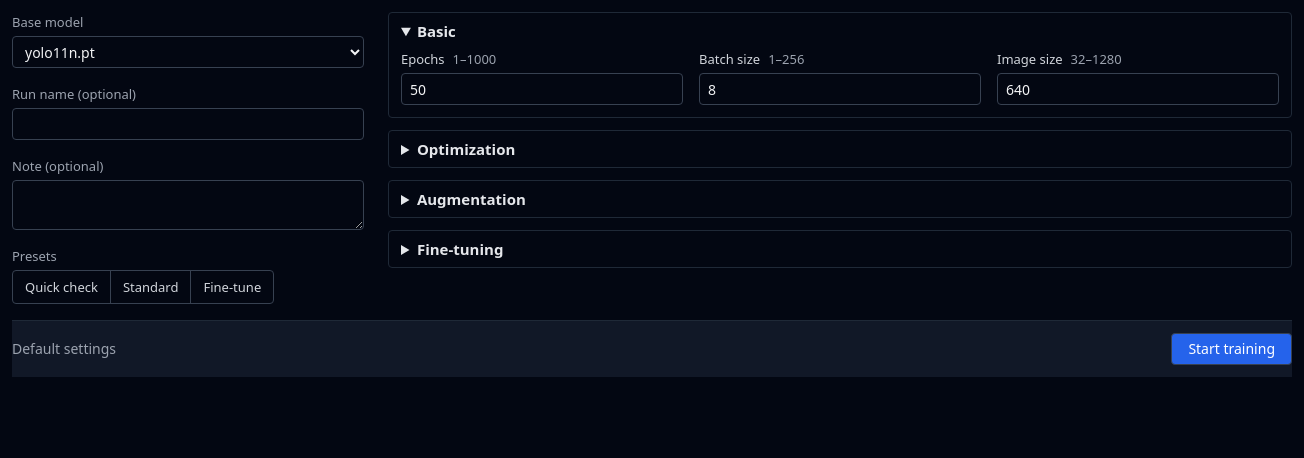
Test: TrainConfigForm › explains head re-initialisation only when a version is chosen
This screenshot has width=1304, height=458.
Select "polyps-v1-run7 — mAP50 0.650 · 2026-08-20" in the dropdown labelled "Base model" at (188, 52), box [12,36,364,68]
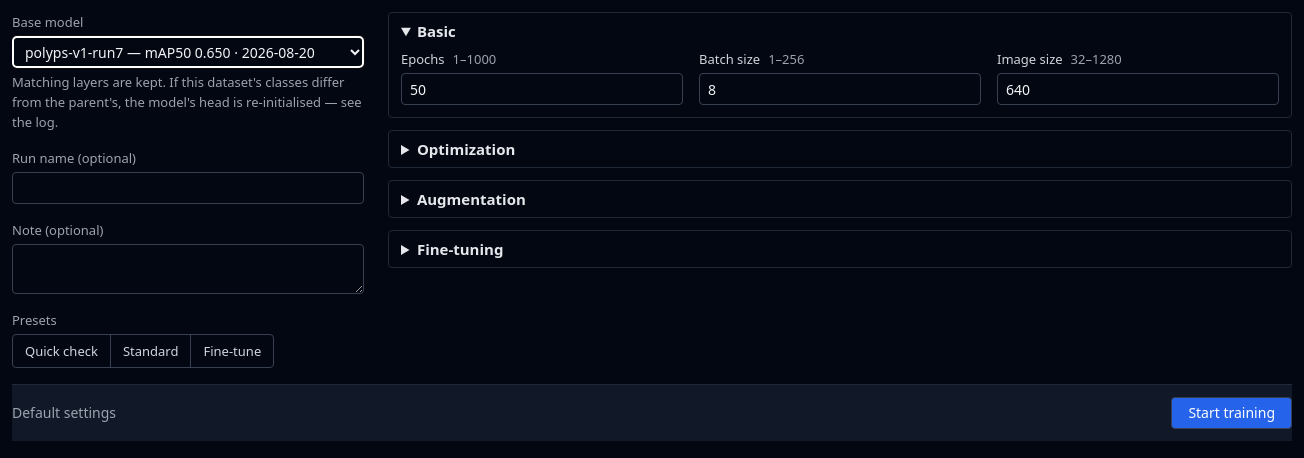
Result: the text "re-initialised" is shown at [12,73,362,131]
